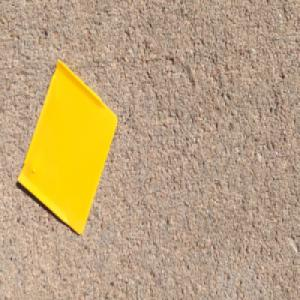PlasticPart: (15, 55, 118, 236)
